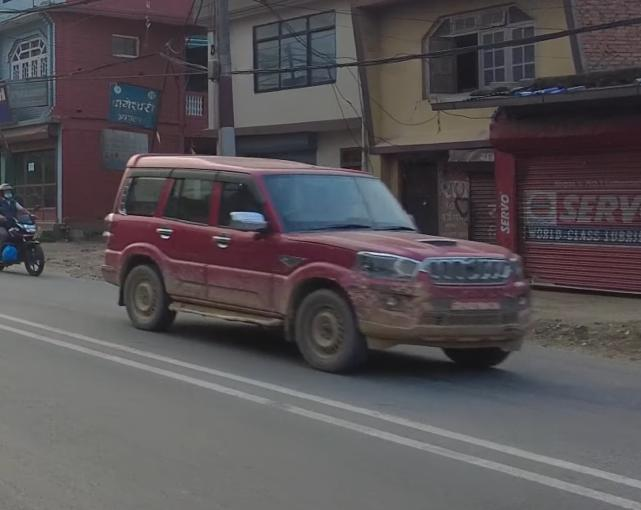SUV: (104, 130, 541, 387)
bike: (0, 205, 48, 281)
